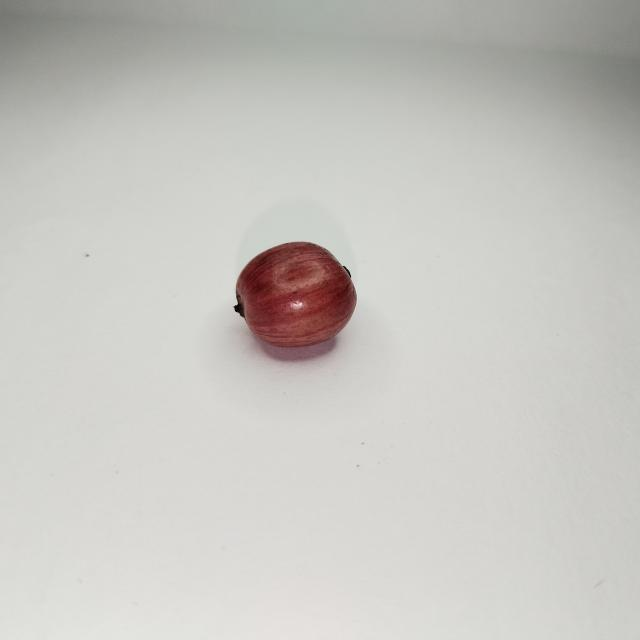Sano: (234, 241, 356, 350)
